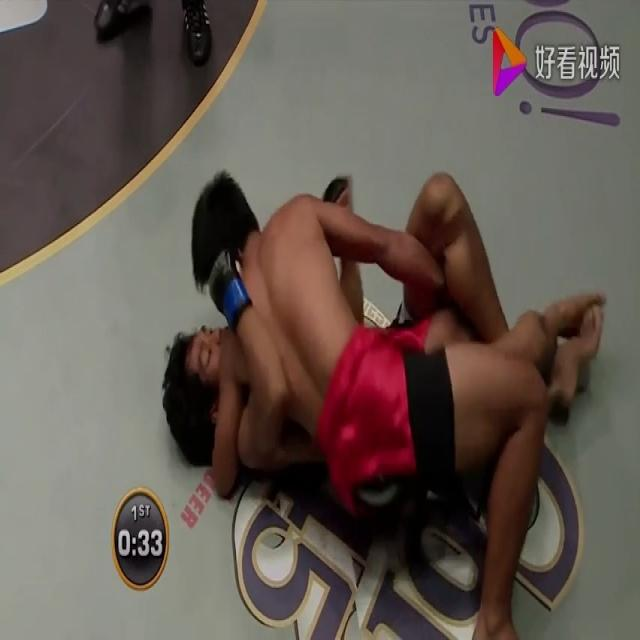fight: (142, 133, 634, 639)
